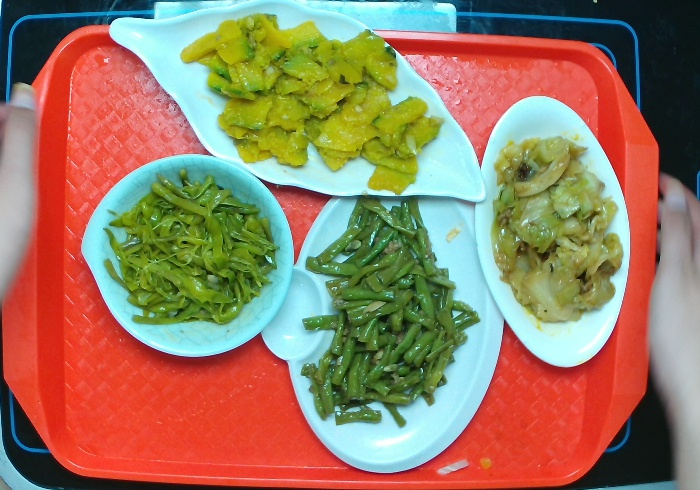RJxy-Bai_Se_Tuo_Yuan: (474, 88, 634, 372)
RJxy-Shu_Ye_Pan: (110, 1, 489, 208)
RJxy-Xiao_Jiao_Yuan_Wan: (79, 152, 296, 362)
RJxy-Zhan_Liao_Pan: (261, 198, 508, 473)
